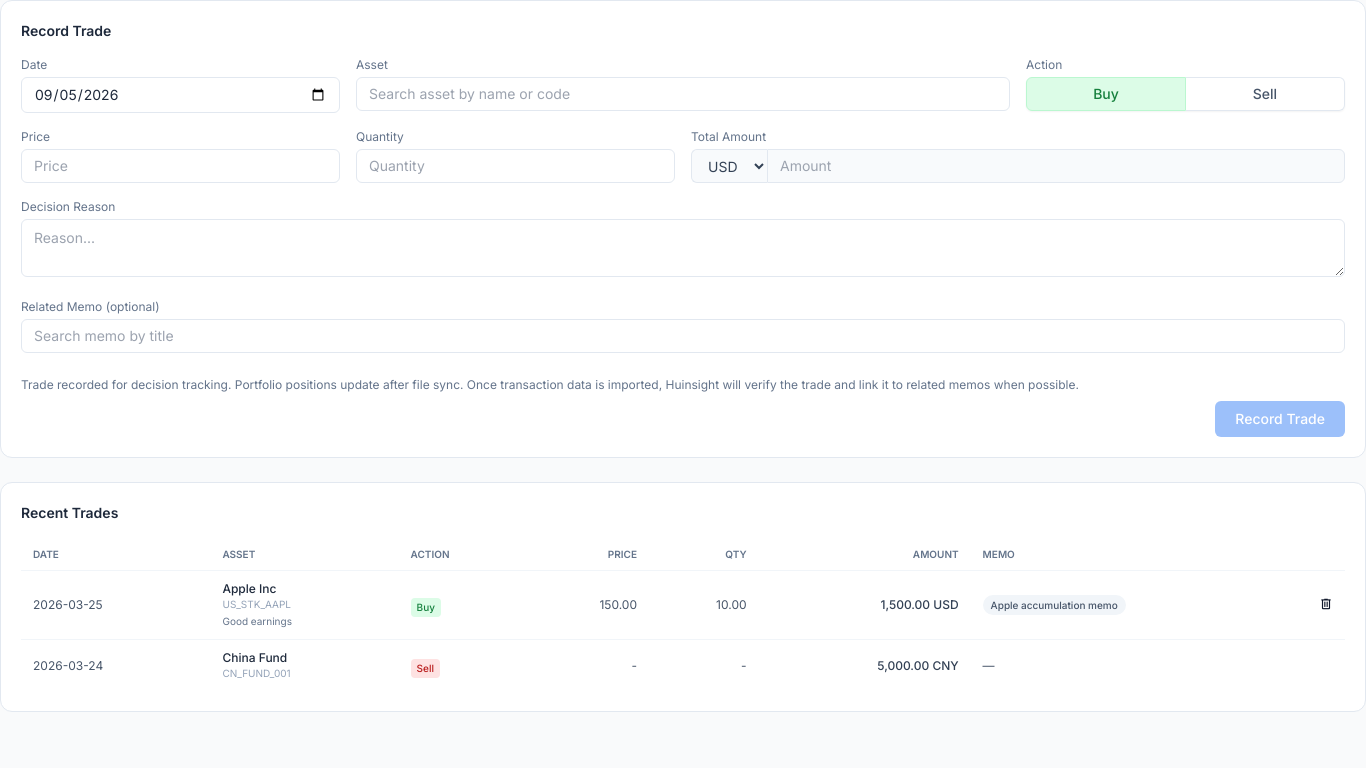
Test case: TradeRecorder › allows deleting a manual trade but hides button for non-manual
Expected: the text "Apple Inc" is shown, [222,581,276,596]
Expected: the text "China Fund" is shown, [222,650,287,665]
Click the button titled "Delete trade" at (1326, 605), box [1319,593,1333,617]
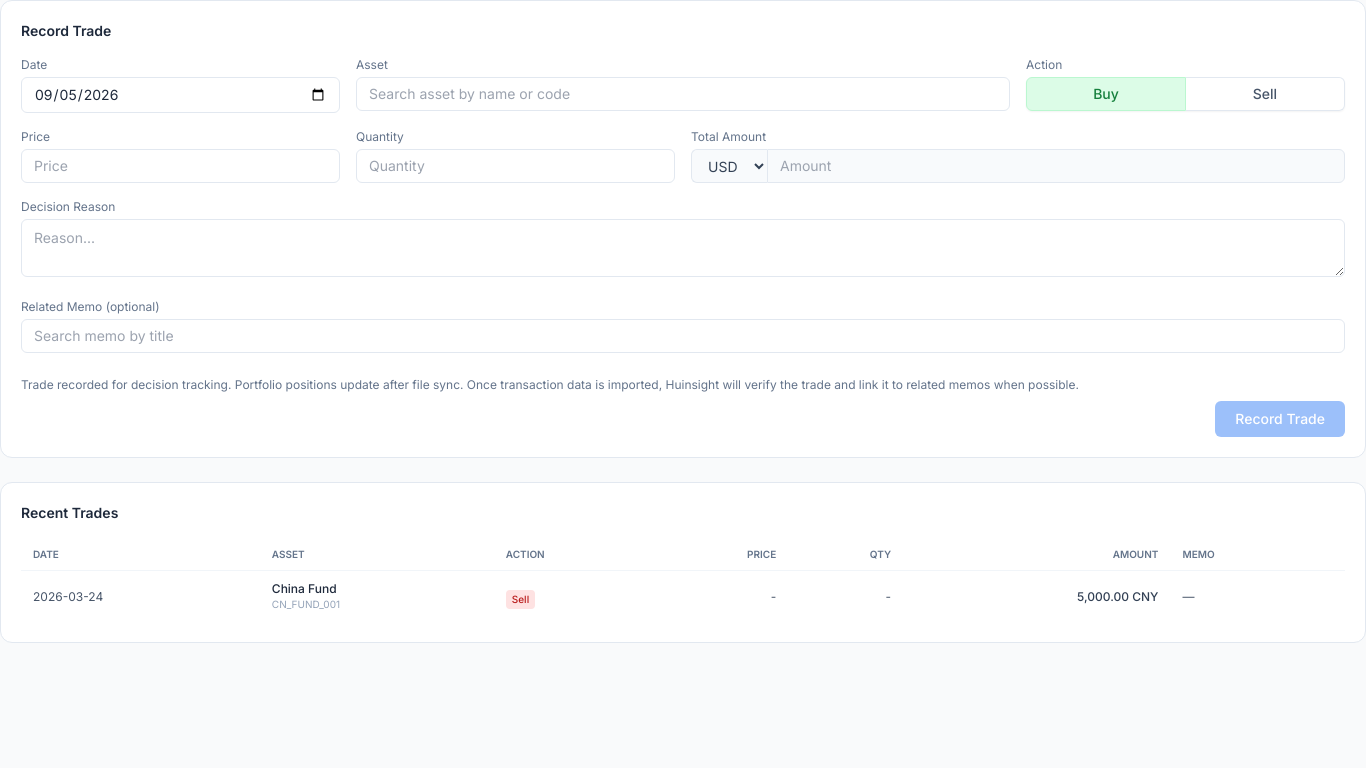
Expected: the text "China Fund" is shown, [272,581,337,596]
Result: the text "Apple Inc" is gone
